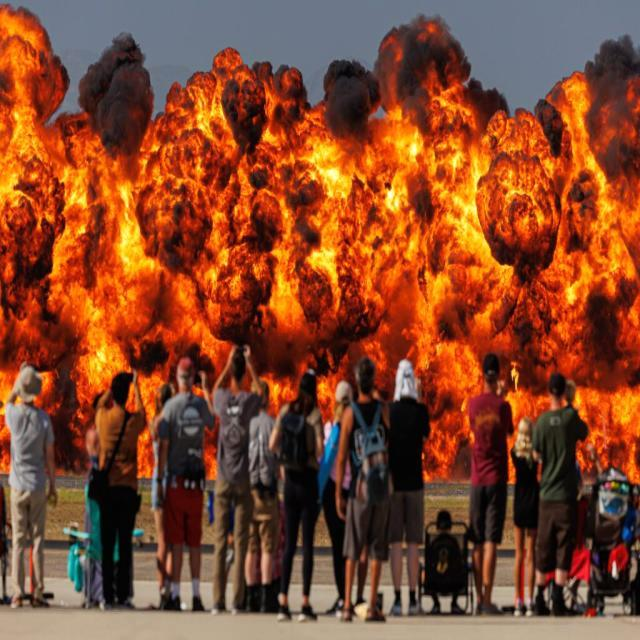fire: (92, 89, 640, 636), (3, 16, 89, 384)
